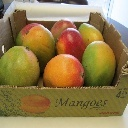mango: (81, 41, 116, 91), (1, 46, 40, 90), (41, 54, 85, 91), (22, 25, 57, 69)
